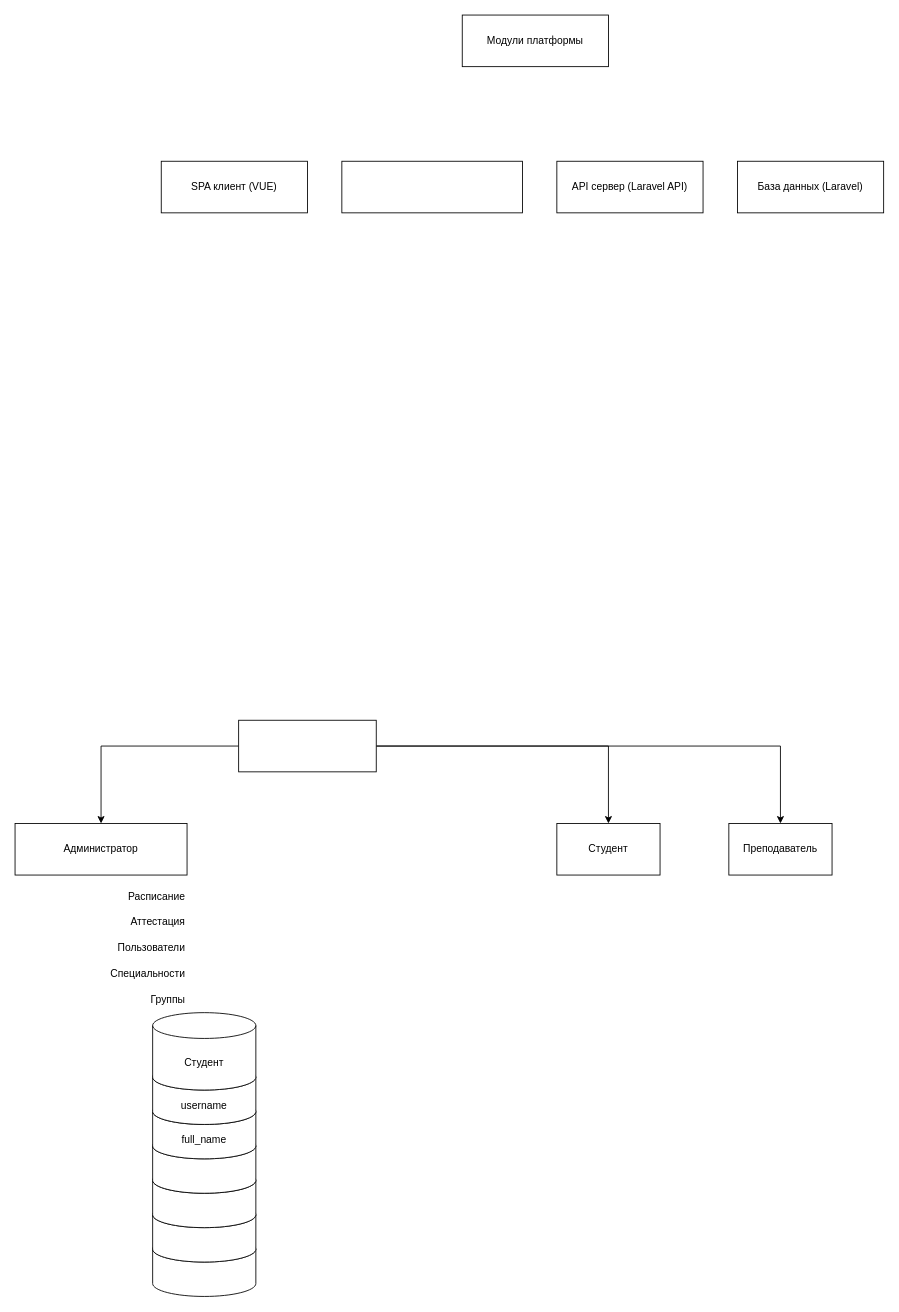
The diagram is 899 pixels wide and 1312 high, and some of its shapes have lost their labels. The shapes that lost their labels are listed below. From the top down, each one's centre as x and y in pixels, then its label:
At pixel 431 186: "Админ панель (Laravel Blade + VUE app)".
At pixel 307 745: "Роли и функционал".
